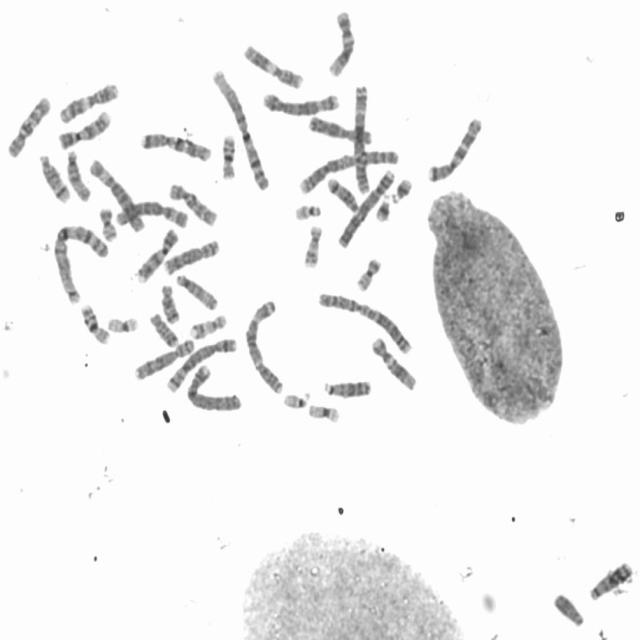A1: (210, 66, 272, 193), (50, 220, 110, 306)
A2: (314, 288, 416, 357), (294, 145, 400, 197)
A3: (243, 296, 285, 396), (351, 81, 372, 194)
B4: (334, 165, 397, 250), (184, 362, 243, 413)
B5: (164, 334, 238, 394), (260, 88, 341, 118)
C10: (5, 93, 52, 160), (166, 180, 219, 229)
C11: (240, 41, 306, 91), (57, 79, 119, 125)
C12: (369, 333, 418, 392), (325, 7, 356, 78)
C6: (86, 156, 146, 233), (111, 198, 190, 230)
C7: (424, 114, 483, 184), (138, 128, 213, 164)
C8: (132, 335, 195, 382), (162, 236, 222, 276)
C9: (132, 226, 180, 284), (56, 108, 113, 150)
D13: (586, 558, 634, 602), (320, 377, 372, 399)
D14: (35, 150, 72, 206), (324, 175, 360, 214)
D15: (173, 271, 219, 312), (64, 147, 92, 203)
E16: (78, 300, 110, 346), (219, 132, 238, 180)
E17: (187, 310, 228, 341), (300, 223, 324, 271)
E18: (147, 309, 180, 349), (158, 280, 181, 324)
F19: (305, 401, 341, 424), (105, 314, 140, 334)
F20: (353, 255, 384, 292), (97, 204, 118, 244)
G21: (388, 175, 414, 205), (373, 191, 393, 224)
G22: (280, 387, 314, 410), (292, 200, 323, 222)
X: (306, 113, 373, 145)
Y: (550, 589, 587, 629)
